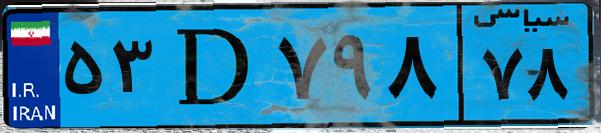3: (110, 28, 158, 98)
5: (57, 26, 110, 100)
7: (270, 28, 330, 110), (475, 38, 525, 113)
8: (385, 28, 445, 110), (525, 38, 570, 115)
9: (330, 28, 385, 110)
D: (158, 12, 270, 120)
